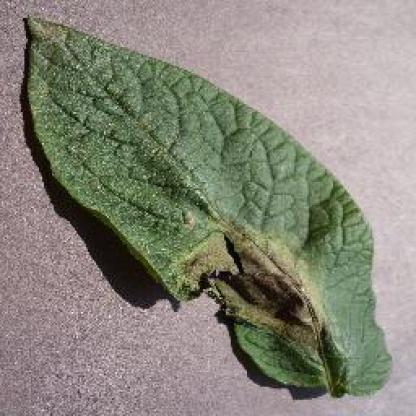bad leaf: (21, 9, 397, 394)
